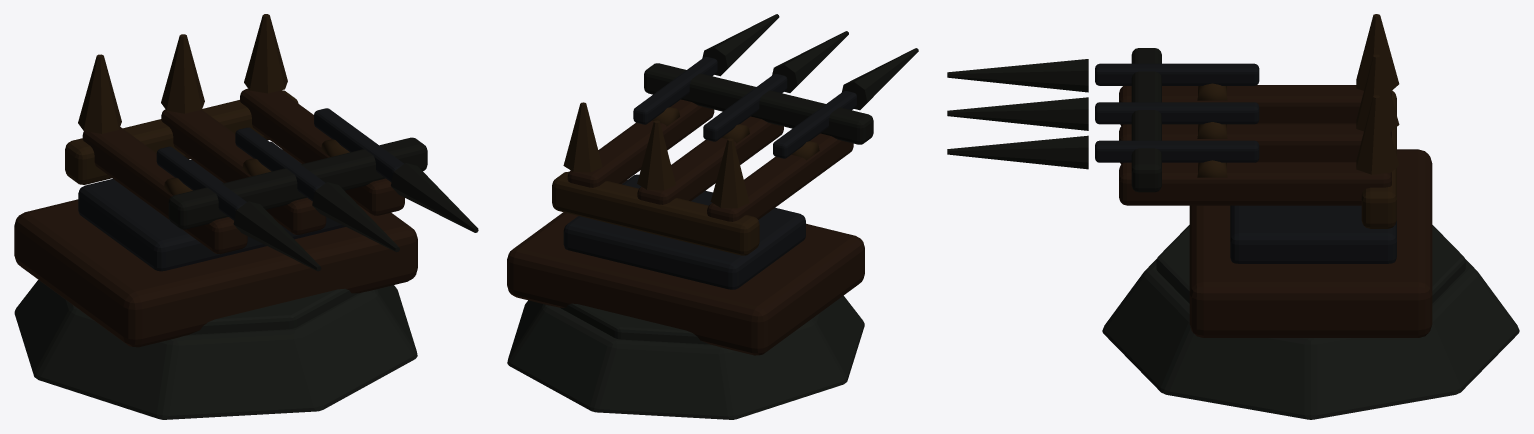
Rendered from TowerKing0.obj.
The picture shows the model from 3 angles, left to right: view 1: azimuth 30°, elevation 25°; view 2: azimuth 150°, elevation 25°; view 3: azimuth 270°, elevation 25°; orthographic projection. The views are drawn at different scales.
Visible parts, largest first — view 1: polished_stone_socket_lower_course, royal_oak_deck, iron_royal_turntable, royal_bow_stock, royal_bow_stock.002, royal_bow_stock.001, bronze_crown_rail, polished_stone_socket_upper_course, royal_bow_limb, royal_bolt.002, royal_bolt, royal_bolt.001 (+8 smaller); view 2: polished_stone_socket_lower_course, royal_oak_deck, iron_royal_turntable, bronze_crown_rail, royal_bow_stock, royal_bow_stock.002, royal_bow_stock.001, polished_stone_socket_upper_course, royal_bow_limb, royal_iron_guide.001, royal_iron_guide.002, royal_iron_guide (+8 smaller); view 3: polished_stone_socket_lower_course, royal_oak_deck, royal_bow_stock.002, iron_royal_turntable, royal_bow_stock, royal_bow_stock.001, royal_iron_guide, royal_iron_guide.002, royal_iron_guide.001, polished_stone_socket_upper_course, royal_bolt.001, royal_bolt.002 (+8 smaller).
Part boxes in pixels (x1=…): polished_stone_socket_lower_course: x1=14, y1=280, x2=417, y2=419; royal_oak_deck: x1=14, y1=149, x2=417, y2=347; iron_royal_turntable: x1=78, y1=141, x2=345, y2=271; royal_bow_stock: x1=82, y1=127, x2=247, y2=254; royal_bow_stock.002: x1=240, y1=88, x2=404, y2=215; royal_bow_stock.001: x1=161, y1=109, x2=326, y2=234; bronze_crown_rail: x1=65, y1=90, x2=298, y2=184; polished_stone_socket_upper_course: x1=189, y1=288, x2=357, y2=334; royal_bow_limb: x1=168, y1=176, x2=266, y2=229; royal_bolt.002: x1=391, y1=163, x2=478, y2=232; royal_bolt: x1=233, y1=201, x2=321, y2=271; royal_bolt.001: x1=312, y1=182, x2=399, y2=252; polished_stone_socket_lower_course: x1=507, y1=295, x2=864, y2=419; royal_oak_deck: x1=507, y1=180, x2=864, y2=355; iron_royal_turntable: x1=563, y1=174, x2=805, y2=289; bronze_crown_rail: x1=552, y1=171, x2=759, y2=255; royal_bow_stock: x1=707, y1=133, x2=853, y2=221; royal_bow_stock.002: x1=567, y1=99, x2=714, y2=187; royal_bow_stock.001: x1=637, y1=116, x2=783, y2=204; polished_stone_socket_upper_course: x1=560, y1=303, x2=709, y2=344; royal_bow_limb: x1=786, y1=97, x2=873, y2=144; royal_iron_guide.001: x1=703, y1=74, x2=787, y2=141; royal_iron_guide.002: x1=633, y1=57, x2=717, y2=124; royal_iron_guide: x1=773, y1=91, x2=856, y2=158; polished_stone_socket_lower_course: x1=1102, y1=259, x2=1519, y2=419; royal_oak_deck: x1=1189, y1=149, x2=1432, y2=337; royal_bow_stock.002: x1=1119, y1=162, x2=1391, y2=205; iron_royal_turntable: x1=1230, y1=205, x2=1396, y2=263; royal_bow_stock: x1=1119, y1=85, x2=1391, y2=125; royal_bow_stock.001: x1=1119, y1=123, x2=1391, y2=164; royal_iron_guide: x1=1095, y1=63, x2=1259, y2=85; royal_iron_guide.002: x1=1095, y1=140, x2=1259, y2=162; royal_iron_guide.001: x1=1095, y1=102, x2=1259, y2=124; polished_stone_socket_upper_course: x1=1156, y1=225, x2=1465, y2=303; royal_bolt.001: x1=947, y1=97, x2=1088, y2=130; royal_bolt.002: x1=947, y1=135, x2=1088, y2=169.
Bounding box in the file's own units: 1.65 × 1.21 × 2.27.
